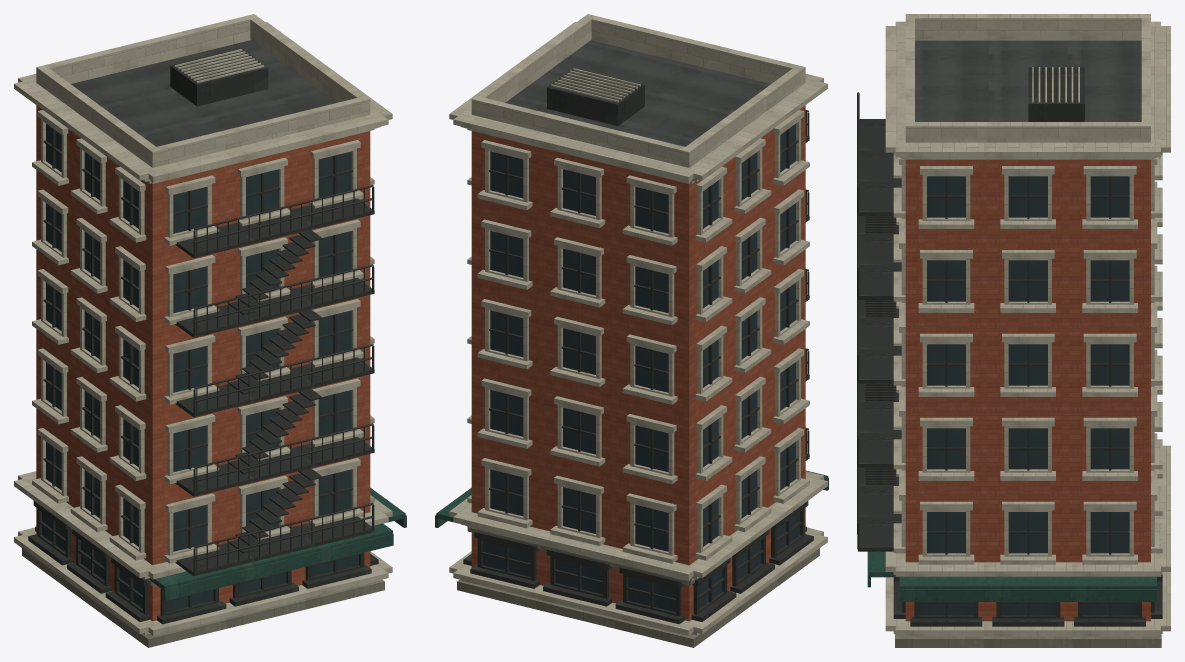
Rendered from city-tenement.glb.
The picture shows the model from 3 angles, left to right: view 1: azimuth 30°, elevation 25°; view 2: azimuth 150°, elevation 25°; view 3: azimuth 270°, elevation 25°; orthographic projection. The views are drawn at different scales.
Parts seen in each view (by area): view 1: city-tenement.001; view 2: city-tenement.001; view 3: city-tenement.001.
Part boxes in pixels (x1,y1,x2,y2): city-tenement.001: [14, 14, 406, 647]; city-tenement.001: [435, 14, 828, 647]; city-tenement.001: [857, 14, 1170, 647].
Bounding box in the file's own units: 8 × 13.94 × 7.65.
1 material, 1 textured.
